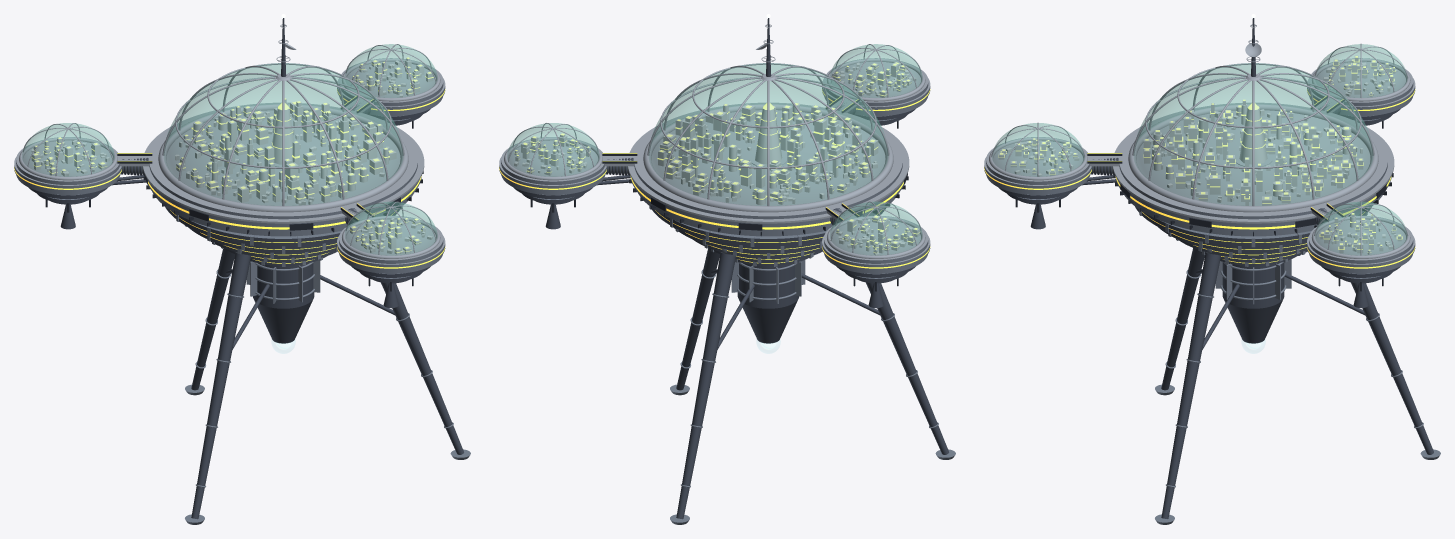
File: citadel.glb
The picture shows the model from 3 angles, left to right: view 1: azimuth 30°, elevation 25°; view 2: azimuth 150°, elevation 25°; view 3: azimuth 270°, elevation 25°; orthographic projection.
Visible parts, largest first — view 1: main dome, hub deck, H-07 Hub city towers, pod 1 dome, pod 2 dome, pod 3 dome, dome collar, leg 2, pod collar (×3), pod 1 deck, pod 2 deck, P-03 Pod cities (+23 smaller); view 2: main dome, hub deck, H-07 Hub city towers, pod 2 dome, pod 3 dome, pod 1 dome, dome collar, leg 3, pod 3 deck, pod 2 deck, pod collar (×3), P-03 Pod cities (+22 smaller); view 3: main dome, hub deck, H-07 Hub city towers, pod 1 dome, pod 3 dome, dome collar, pod 2 dome, leg 1, pod 3 deck, pod 1 deck, pod collar (×3), P-03 Pod cities (+21 smaller).
Part boxes in pixels (x1,y1,x2,y2): main dome: (164,63,403,205); hub deck: (149,102,417,236); H-07 Hub city towers: (175,98,393,205); pod 1 dome: (345,201,437,255); pod 2 dome: (22,123,114,176); pod 3 dome: (345,44,437,97); dome collar: (158,103,408,212); leg 2: (191,252,251,519); pod collar (×3): (19,58,440,258); pod 1 deck: (339,219,443,273); pod 2 deck: (16,140,120,195); P-03 Pod cities: (31,57,433,253); main dome: (649,63,888,205); hub deck: (634,102,902,236); H-07 Hub city towers: (657,103,878,203); pod 2 dome: (830,201,922,255); pod 3 dome: (507,123,599,176); pod 1 dome: (830,44,922,97); dome collar: (643,103,893,212); leg 3: (676,252,735,519); pod 3 deck: (501,140,605,195); pod 2 deck: (824,219,928,273); pod collar (×3): (504,58,925,258); P-03 Pod cities: (514,62,919,255); main dome: (1134,63,1373,205); hub deck: (1119,102,1387,236); H-07 Hub city towers: (1143,99,1363,203); pod 1 dome: (992,123,1084,176); pod 3 dome: (1315,201,1407,255); dome collar: (1128,103,1378,212); pod 2 dome: (1315,44,1407,97); leg 1: (1161,252,1221,518); pod 3 deck: (1309,219,1413,273); pod 1 deck: (986,140,1090,195); pod collar (×3): (989,58,1410,258); P-03 Pod cities: (998,56,1402,252).
Size of the model in its own units: 30412 by 30850 by 28868.
